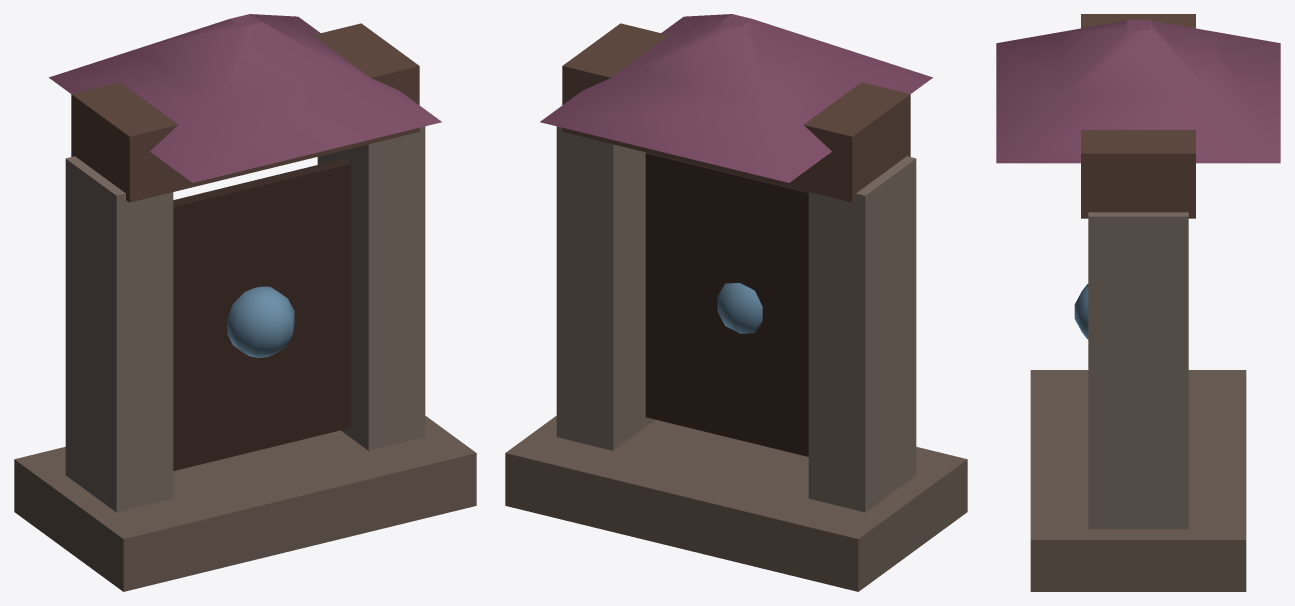
The model's file is node_mi_jing.glb.
The picture shows the model from 3 angles, left to right: view 1: azimuth 30°, elevation 25°; view 2: azimuth 150°, elevation 25°; view 3: azimuth 270°, elevation 25°; orthographic projection.
Parts seen in each view (by area): view 1: _MeshInstance3D_319, _MeshInstance3D_315, _MeshInstance3D_316, _MeshInstance3D_320, _MeshInstance3D_317, _MeshInstance3D_318, _MeshInstance3D_321; view 2: _MeshInstance3D_315, _MeshInstance3D_319, _MeshInstance3D_316, _MeshInstance3D_320, _MeshInstance3D_317, _MeshInstance3D_318, _MeshInstance3D_321; view 3: _MeshInstance3D_320, _MeshInstance3D_315, _MeshInstance3D_317, _MeshInstance3D_318, _MeshInstance3D_321.
Boxes of the visible parts, x1=… form: _MeshInstance3D_319: x1=173, y1=158, x2=350, y2=470; _MeshInstance3D_315: x1=14, y1=416, x2=476, y2=591; _MeshInstance3D_316: x1=65, y1=156, x2=173, y2=512; _MeshInstance3D_320: x1=49, y1=14, x2=441, y2=182; _MeshInstance3D_317: x1=317, y1=126, x2=425, y2=450; _MeshInstance3D_318: x1=71, y1=23, x2=419, y2=202; _MeshInstance3D_321: x1=227, y1=286, x2=294, y2=357; _MeshInstance3D_315: x1=505, y1=416, x2=967, y2=591; _MeshInstance3D_319: x1=645, y1=152, x2=808, y2=456; _MeshInstance3D_316: x1=808, y1=156, x2=916, y2=512; _MeshInstance3D_320: x1=540, y1=14, x2=932, y2=182; _MeshInstance3D_317: x1=556, y1=126, x2=655, y2=450; _MeshInstance3D_318: x1=562, y1=23, x2=910, y2=202; _MeshInstance3D_321: x1=717, y1=283, x2=762, y2=333; _MeshInstance3D_320: x1=996, y1=20, x2=1280, y2=163; _MeshInstance3D_315: x1=1030, y1=370, x2=1246, y2=591; _MeshInstance3D_317: x1=1088, y1=212, x2=1188, y2=529; _MeshInstance3D_318: x1=1081, y1=14, x2=1195, y2=218; _MeshInstance3D_321: x1=1074, y1=284, x2=1088, y2=339.
Size of the model in its own units: 0.56 by 0.74 by 0.396.
